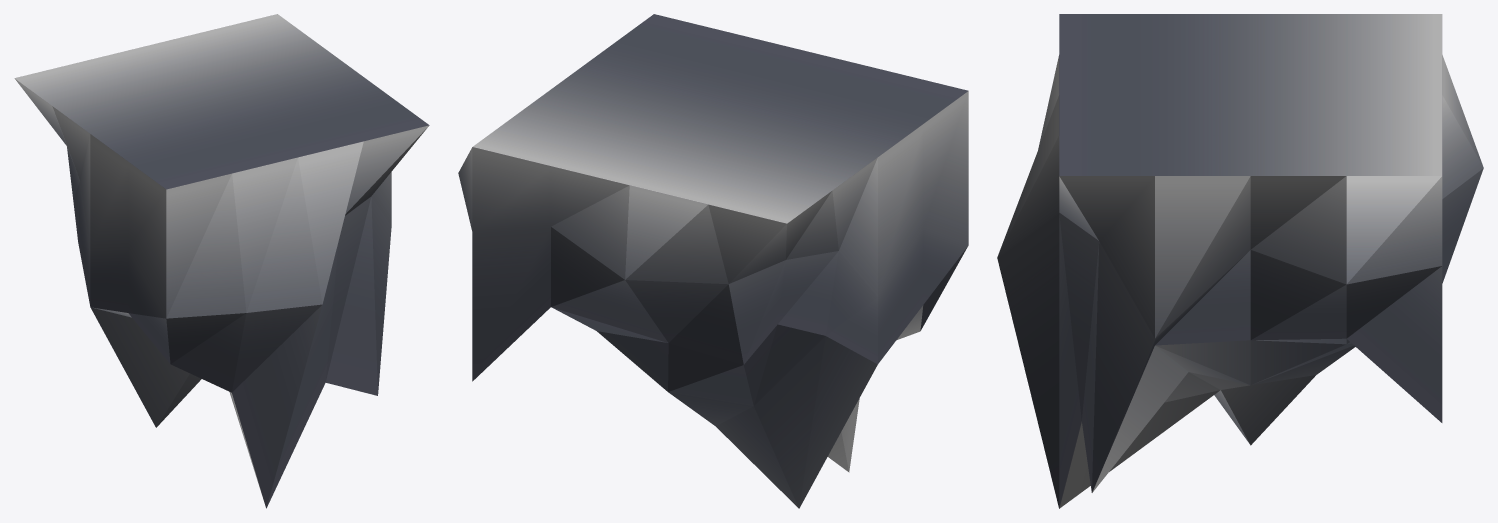
File: blockNarrow01.fbx
3 renders of one model, left to right at view 1: azimuth 30°, elevation 25°; view 2: azimuth 150°, elevation 25°; view 3: azimuth 270°, elevation 25°, orthographic. The views are drawn at different scales.
Parts seen in each view (by area): view 1: Cube_27; view 2: Cube_27; view 3: Cube_27.
Part boxes in pixels (x1,y1,x2,y2): Cube_27: [14, 14, 429, 508]; Cube_27: [458, 14, 968, 508]; Cube_27: [997, 14, 1483, 508].
Size of the model in its own units: 238 by 250 by 254.
Materials: 1 (1 with a texture image).
